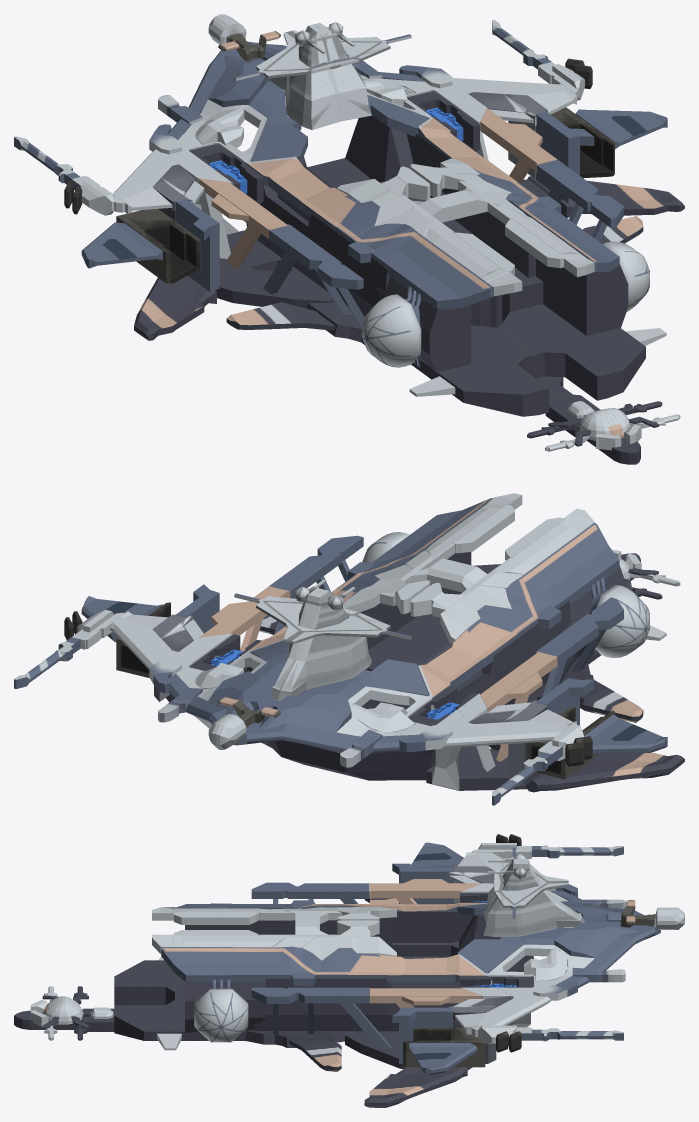
The model's file is Esy_LODGroup.fbx.
3 renders of one model, top to bottom at view 1: azimuth 30°, elevation 25°; view 2: azimuth 150°, elevation 25°; view 3: azimuth 270°, elevation 25°, orthographic. The views are drawn at different scales.
Visible parts, largest first — view 1: ESY_LOD0; view 2: ESY_LOD0; view 3: ESY_LOD0.
Boxes of the visible parts, x1,y1,x2,y2 form: ESY_LOD0: (14,14,684,464); ESY_LOD0: (14,493,684,805); ESY_LOD0: (14,834,684,1107).
Size of what is drawn, in the model's own units: 12.62 by 4.3 by 15.86.
Materials: 2 (2 with a texture image).
